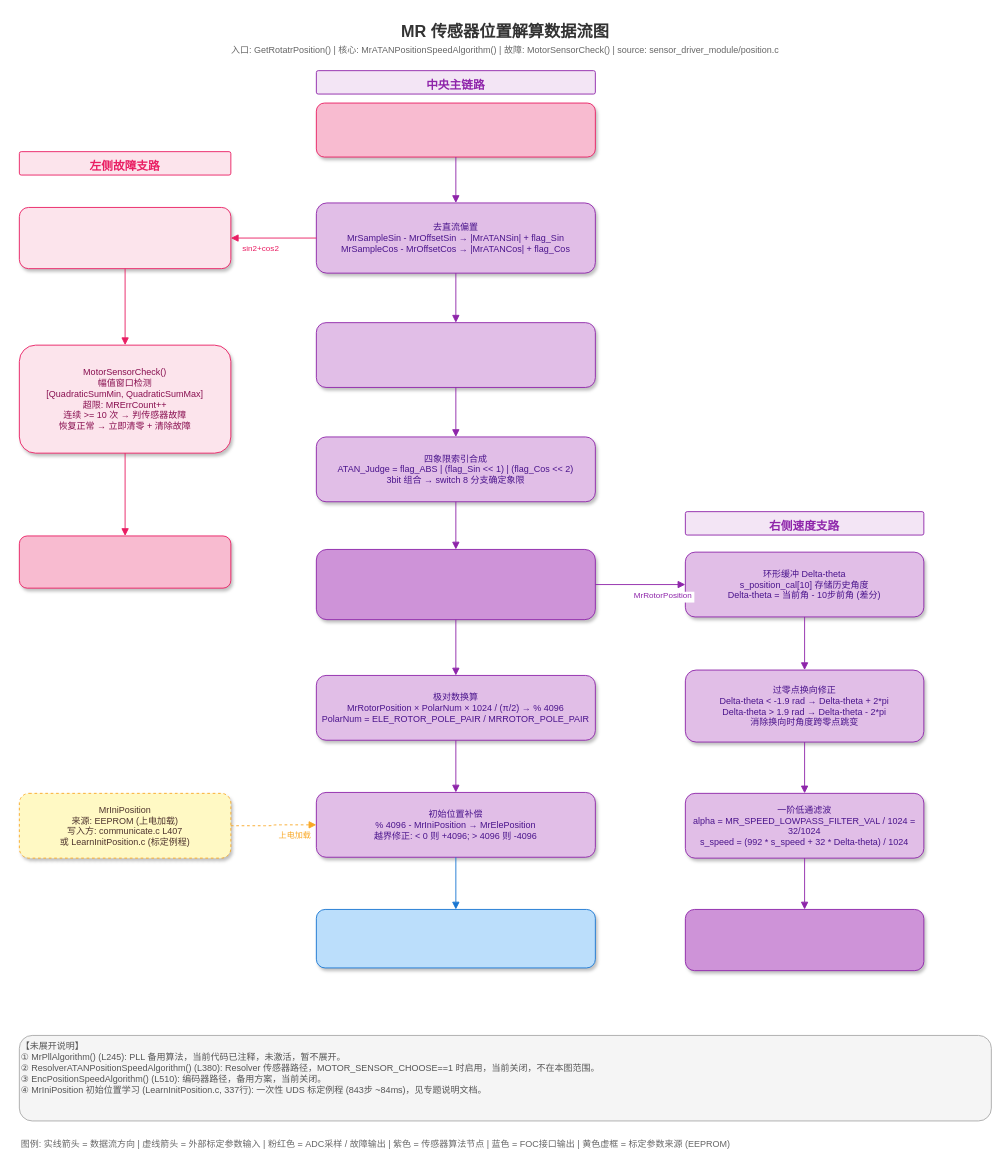
The diagram is 1007 pixels wide and 1170 high, and some of its shapes have lost their labels. The centre of each missing label's shape, as x and y in pixels:
"ADC 采样 MrSampleSin / MrSampleCos" belongs at (456,131).
"ATAN 查表 + 象限补偿 MR_ARCTG(MrATANTan) + 象限偏移量 → MrRotorPosition (机械角 0 ~ 2π)" belongs at (456,585).
"FaultIdMSensorErr → 安全保护链路" belongs at (125,562).
"MrElePosition (0 ~ 4096) → FOC Clark / Park 变换 (电流环输入)" belongs at (456,939).
"MrMechSpeed (rpm) = 滤波后 Delta-theta × 4774.65 → 速度外环 PID" belongs at (805,941).
"大小比较 → Tan 计算 max(Sin, Cos) 为主导轴 min / max → MrATANTan (Q10) + flag_ABS" belongs at (456,356).
"幅值计算 MRATANQuadraticSum = MrATANSin² + MrATANCos²" belongs at (125,239).
